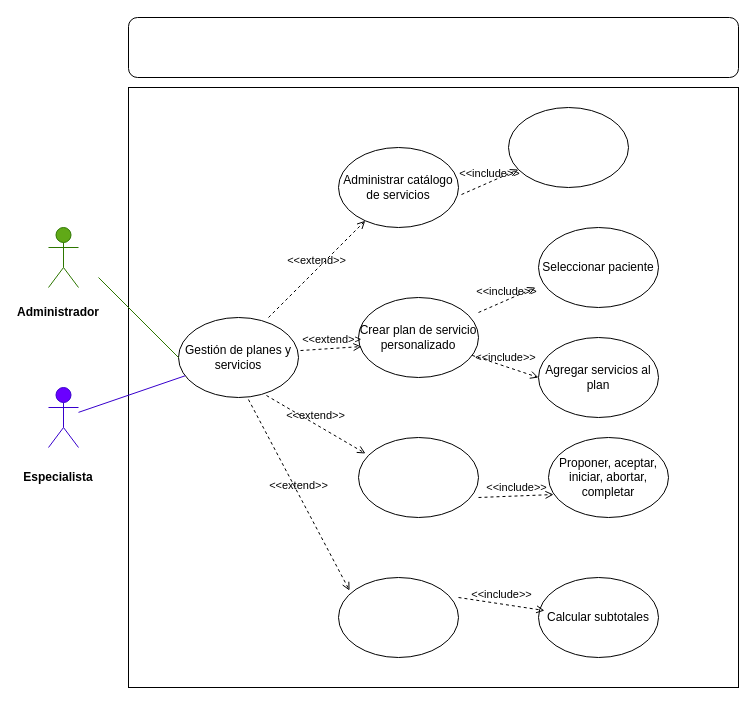
This 756x705 diagram has some shape labels left out. Each missing label, with the centre of its shape:
Definir precios y duraciones: pixel 568 147
Diagrama de caso de uso del Módulo Gestión de planes y servicios: pixel 433 47
Gestionar ciclo de vida del plan: pixel 418 477
Registrar ajustes monetarios: pixel 398 617
